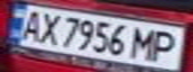5: (90, 19, 112, 55)
6: (106, 21, 133, 57)
7: (57, 15, 81, 49)
9: (72, 17, 96, 52)
A: (15, 8, 48, 42)
M: (127, 25, 163, 62)
P: (148, 28, 184, 64)
X: (33, 10, 63, 46)
